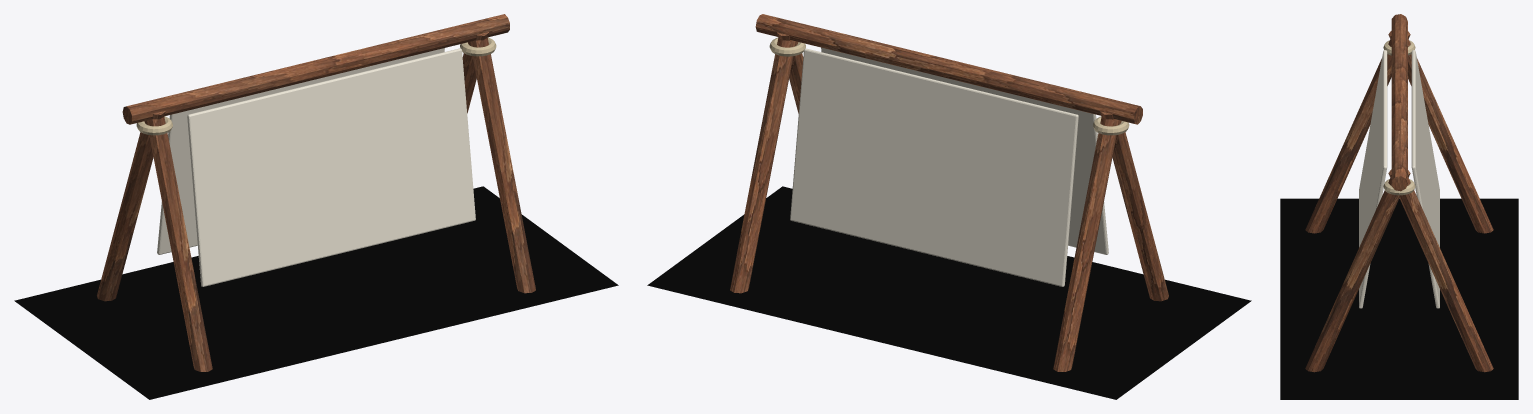
File: drying-rack.glb
3 views of the same model, side by side, from view 1: azimuth 30°, elevation 25°; view 2: azimuth 150°, elevation 25°; view 3: azimuth 270°, elevation 25° (orthographic). The views are drawn at different scales.
Visible parts, largest first — view 1: ContactShadow, clothB, bar, leg.002, leg, clothF, leg.001, leg.003; view 2: ContactShadow, clothF, bar, leg.003, leg.001, clothB, leg, leg.002; view 3: ContactShadow, leg.003, leg.002, clothB, clothF, bar, leg, leg.001, lash.
Boxes of the visible parts, x1,y1,x2,y2 form: ContactShadow: [14, 186, 618, 399]; clothB: [187, 48, 475, 286]; bar: [122, 14, 509, 124]; leg.002: [470, 38, 535, 293]; leg: [147, 117, 212, 371]; clothF: [157, 48, 444, 254]; leg.001: [97, 111, 165, 301]; leg.003: [462, 32, 488, 113]; ContactShadow: [647, 186, 1251, 399]; clothF: [790, 48, 1078, 286]; bar: [755, 14, 1142, 124]; leg.003: [730, 38, 795, 293]; leg.001: [1053, 117, 1118, 371]; clothB: [821, 47, 1108, 254]; leg: [1100, 111, 1168, 301]; leg.002: [777, 32, 803, 113]; ContactShadow: [1280, 198, 1518, 399]; leg.003: [1388, 169, 1493, 372]; leg.002: [1305, 170, 1410, 372]; clothB: [1359, 50, 1387, 308]; clothF: [1411, 50, 1439, 308]; bar: [1391, 14, 1407, 191]; leg: [1305, 31, 1410, 233]; leg.001: [1388, 31, 1493, 233]; lash: [1383, 179, 1415, 195].
Size of the model in its own units: 1.8 by 0.89 by 0.9.
4 materials, 2 textured.
